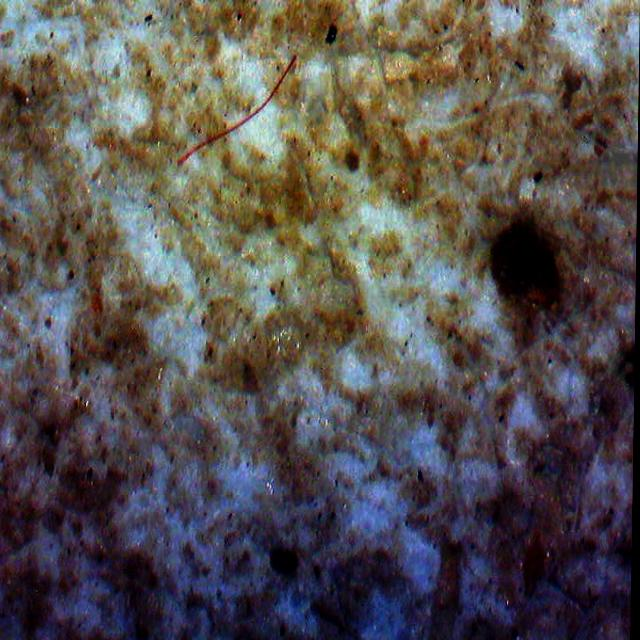microplastic: (177, 53, 308, 175)
